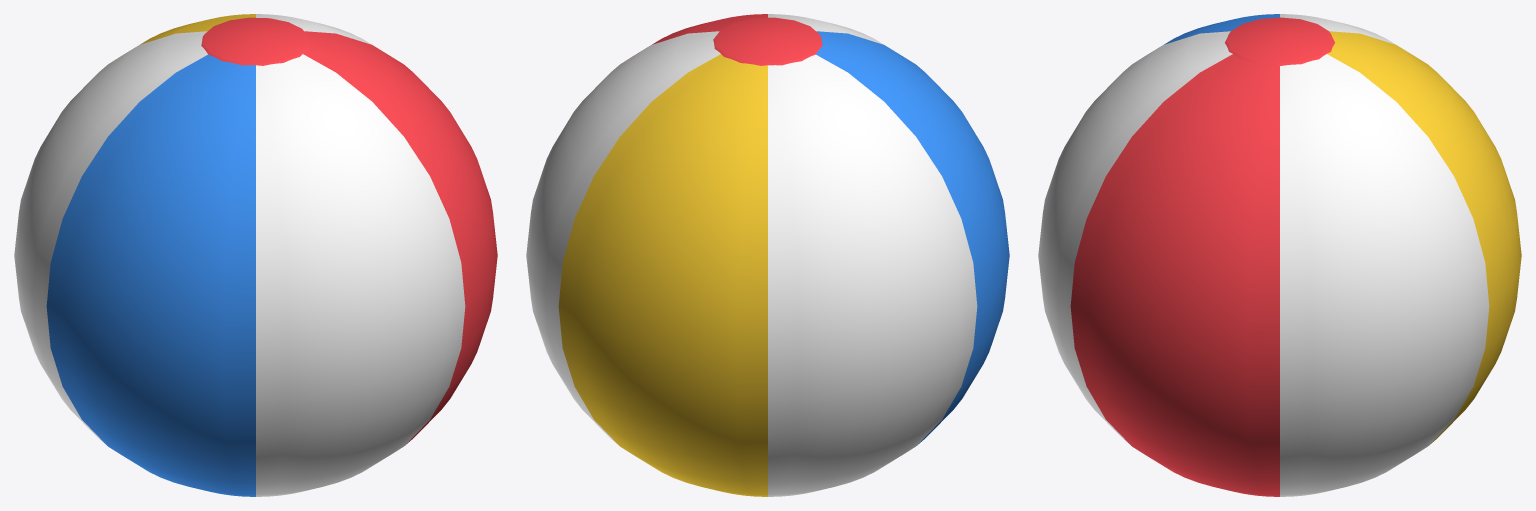
Rendered from LobbyBeachBall.obj.
3 renders of one model, left to right at view 1: azimuth 30°, elevation 25°; view 2: azimuth 150°, elevation 25°; view 3: azimuth 270°, elevation 25°, orthographic.
Visible parts, largest first — view 1: White, GoreB, GoreA, Cap, GoreC; view 2: White, GoreC, GoreB, Cap, GoreA; view 3: White, GoreA, GoreC, Cap, GoreB.
Boxes of the visible parts, <box> form: White: <box>14,14,465,496</box>; GoreB: <box>46,54,255,496</box>; GoreA: <box>303,31,497,445</box>; Cap: <box>201,17,310,65</box>; GoreC: <box>115,14,255,59</box>; White: <box>526,14,977,496</box>; GoreC: <box>558,54,767,496</box>; GoreB: <box>816,31,1009,445</box>; Cap: <box>713,17,822,65</box>; GoreA: <box>627,14,767,59</box>; White: <box>1038,14,1489,496</box>; GoreA: <box>1070,54,1279,496</box>; GoreC: <box>1327,31,1521,445</box>; Cap: <box>1225,17,1334,65</box>; GoreB: <box>1139,14,1279,59</box>.
Size of the model in its own units: 5 by 5.04 by 5.
